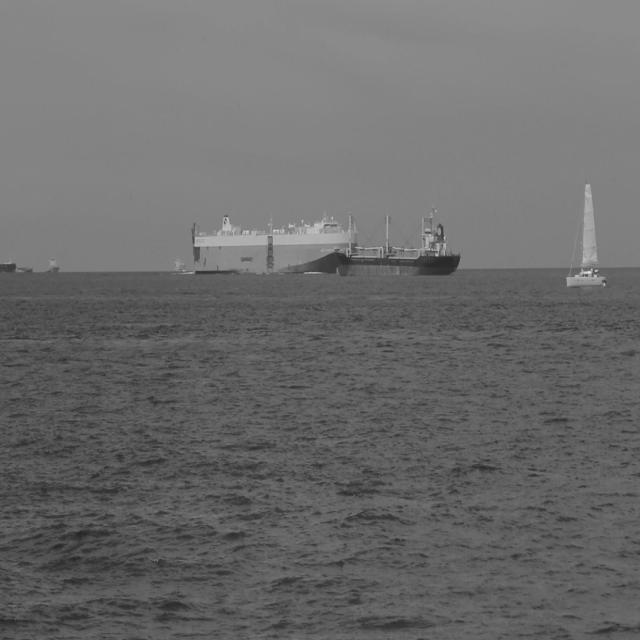ship: (189, 208, 357, 274), (331, 200, 462, 278), (564, 178, 608, 288), (46, 252, 60, 274), (0, 256, 17, 274), (16, 263, 33, 274)
